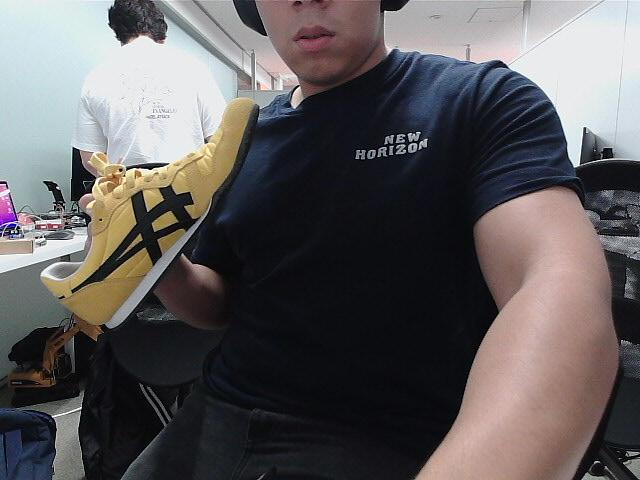Shoes: (41, 96, 256, 331)
